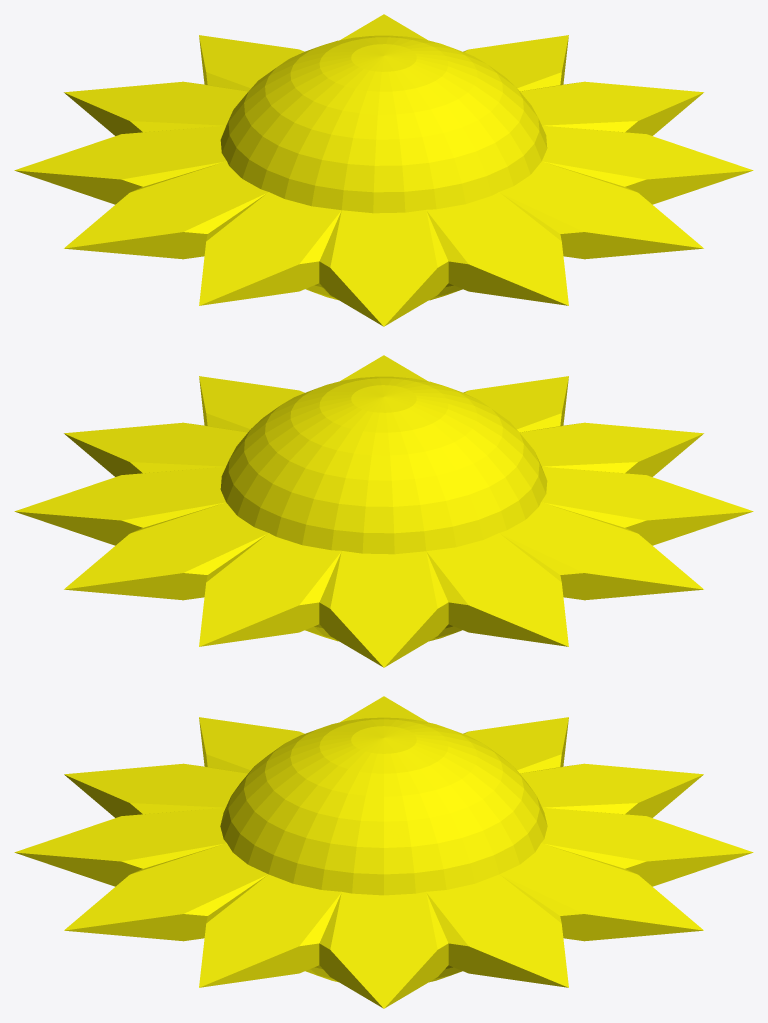
File: sun.fbx
3 renders of one model, top to bottom at view 1: azimuth 30°, elevation 25°; view 2: azimuth 150°, elevation 25°; view 3: azimuth 270°, elevation 25°, orthographic.
Visible parts, largest first — view 1: Cube, Sphere; view 2: Cube, Sphere; view 3: Cube, Sphere.
Part boxes in pixels (x1=…): Cube: x1=14, y1=14, x2=753, y2=326; Sphere: x1=220, y1=35, x2=547, y2=300; Cube: x1=14, y1=355, x2=753, y2=667; Sphere: x1=220, y1=376, x2=547, y2=641; Cube: x1=14, y1=696, x2=753, y2=1008; Sphere: x1=220, y1=717, x2=547, y2=982.
Bounding box in the file's own units: 360 × 123 × 360.
